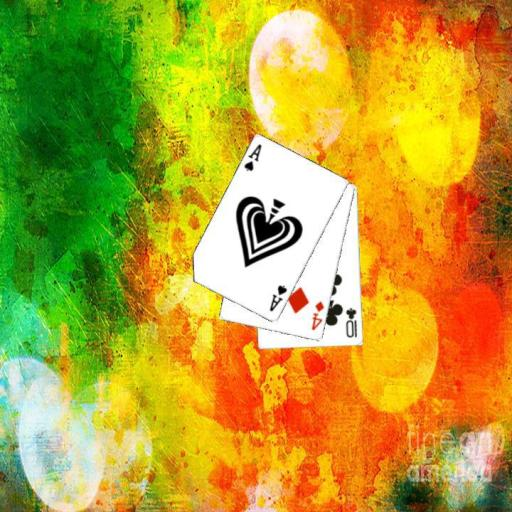10C: (343, 305, 358, 339)
4D: (309, 299, 326, 332)
AS: (241, 141, 263, 173), (267, 282, 289, 313)
